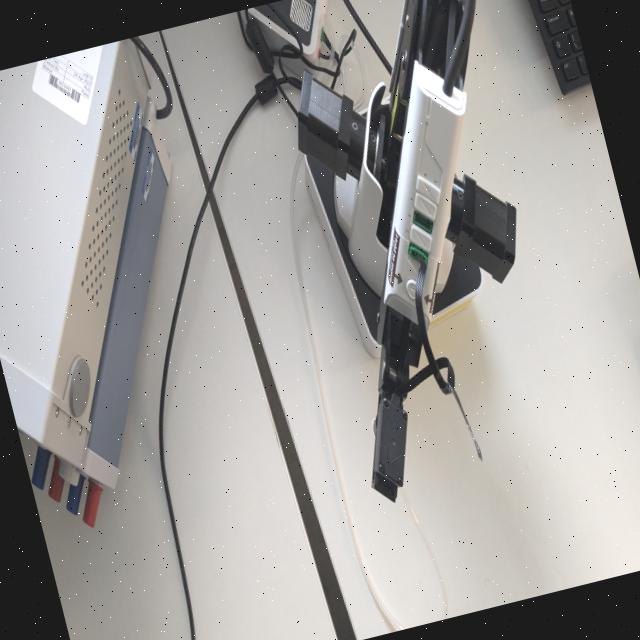Robot-end-effector-HF8z: (348, 384, 432, 510)
